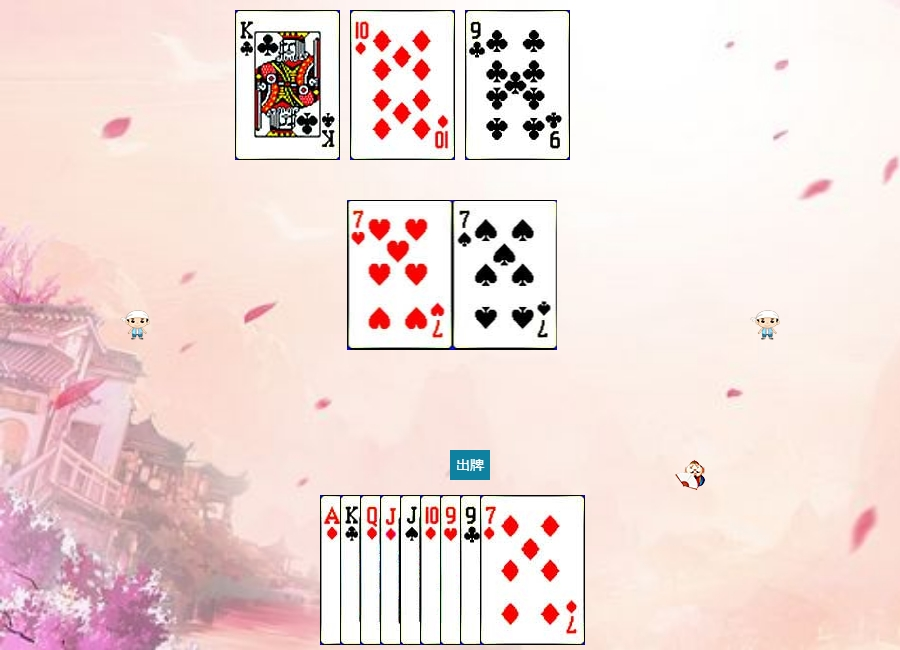10~1: (350, 10, 455, 160), (420, 495, 525, 645)
11~1: (380, 495, 485, 645)
11~4: (400, 495, 505, 645)
12~1: (360, 495, 465, 645)
13~2: (235, 10, 340, 160), (340, 495, 445, 645)
14~1: (320, 495, 425, 645)
7~1: (480, 495, 585, 645)
7~3: (348, 200, 453, 350)
7~4: (453, 200, 558, 350)
9~2: (465, 10, 570, 160), (460, 495, 565, 645)
9~3: (440, 495, 545, 645)
